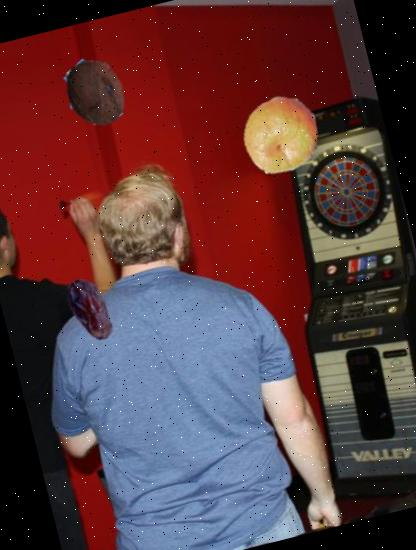Cocos: (53, 52, 137, 136)
Dates: (51, 269, 132, 350)
Mandarine: (233, 87, 331, 186)
